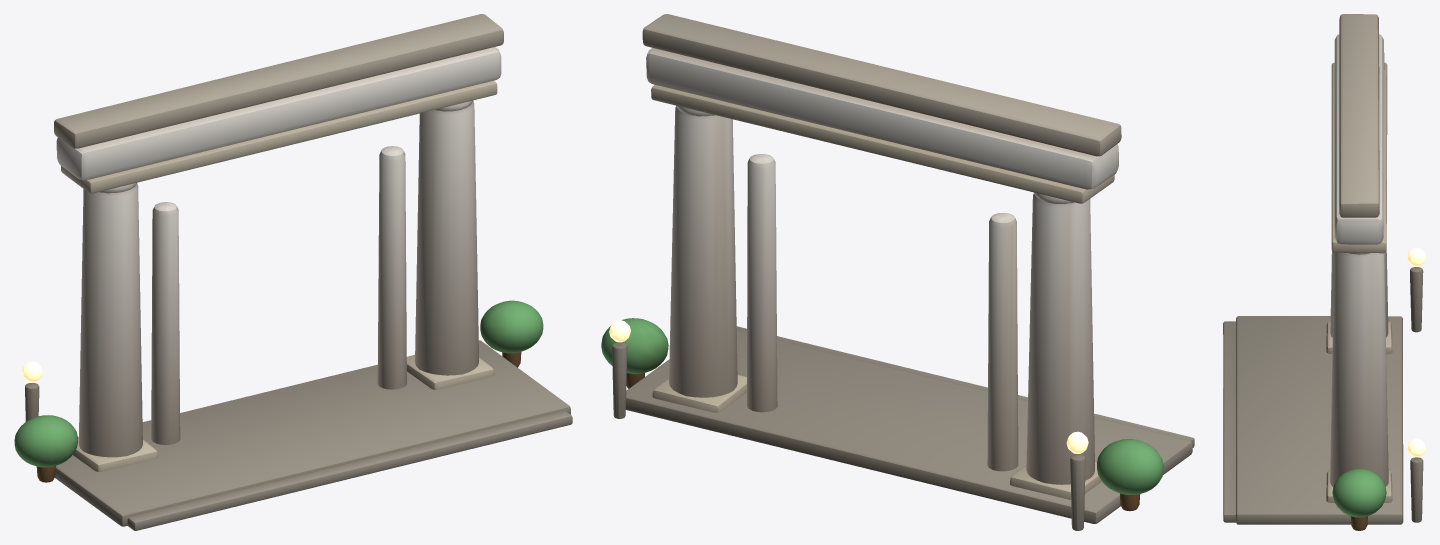
The picture shows the model from 3 angles, left to right: view 1: azimuth 30°, elevation 25°; view 2: azimuth 150°, elevation 25°; view 3: azimuth 270°, elevation 25°; orthographic projection. The views are drawn at different scales.
Visible parts, largest first — view 1: gate_6ee7d124; view 2: gate_6ee7d124; view 3: gate_6ee7d124.
Boxes of the visible parts, x1,y1,x2,y2 form: gate_6ee7d124: (14,14,572,530); gate_6ee7d124: (601,14,1194,530); gate_6ee7d124: (1223,14,1425,530).
Bounding box in the file's own units: 6.87 × 4.42 × 2.55.
